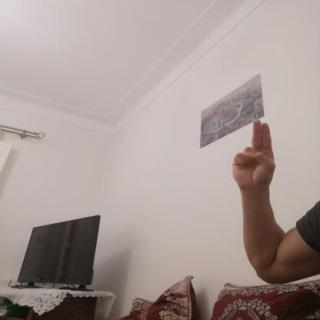TA: (223, 113, 286, 197)
